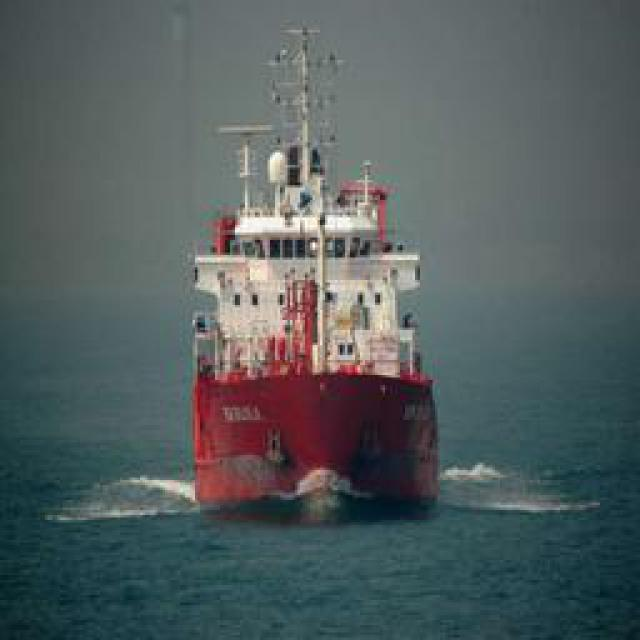Ship: (191, 36, 439, 514)
